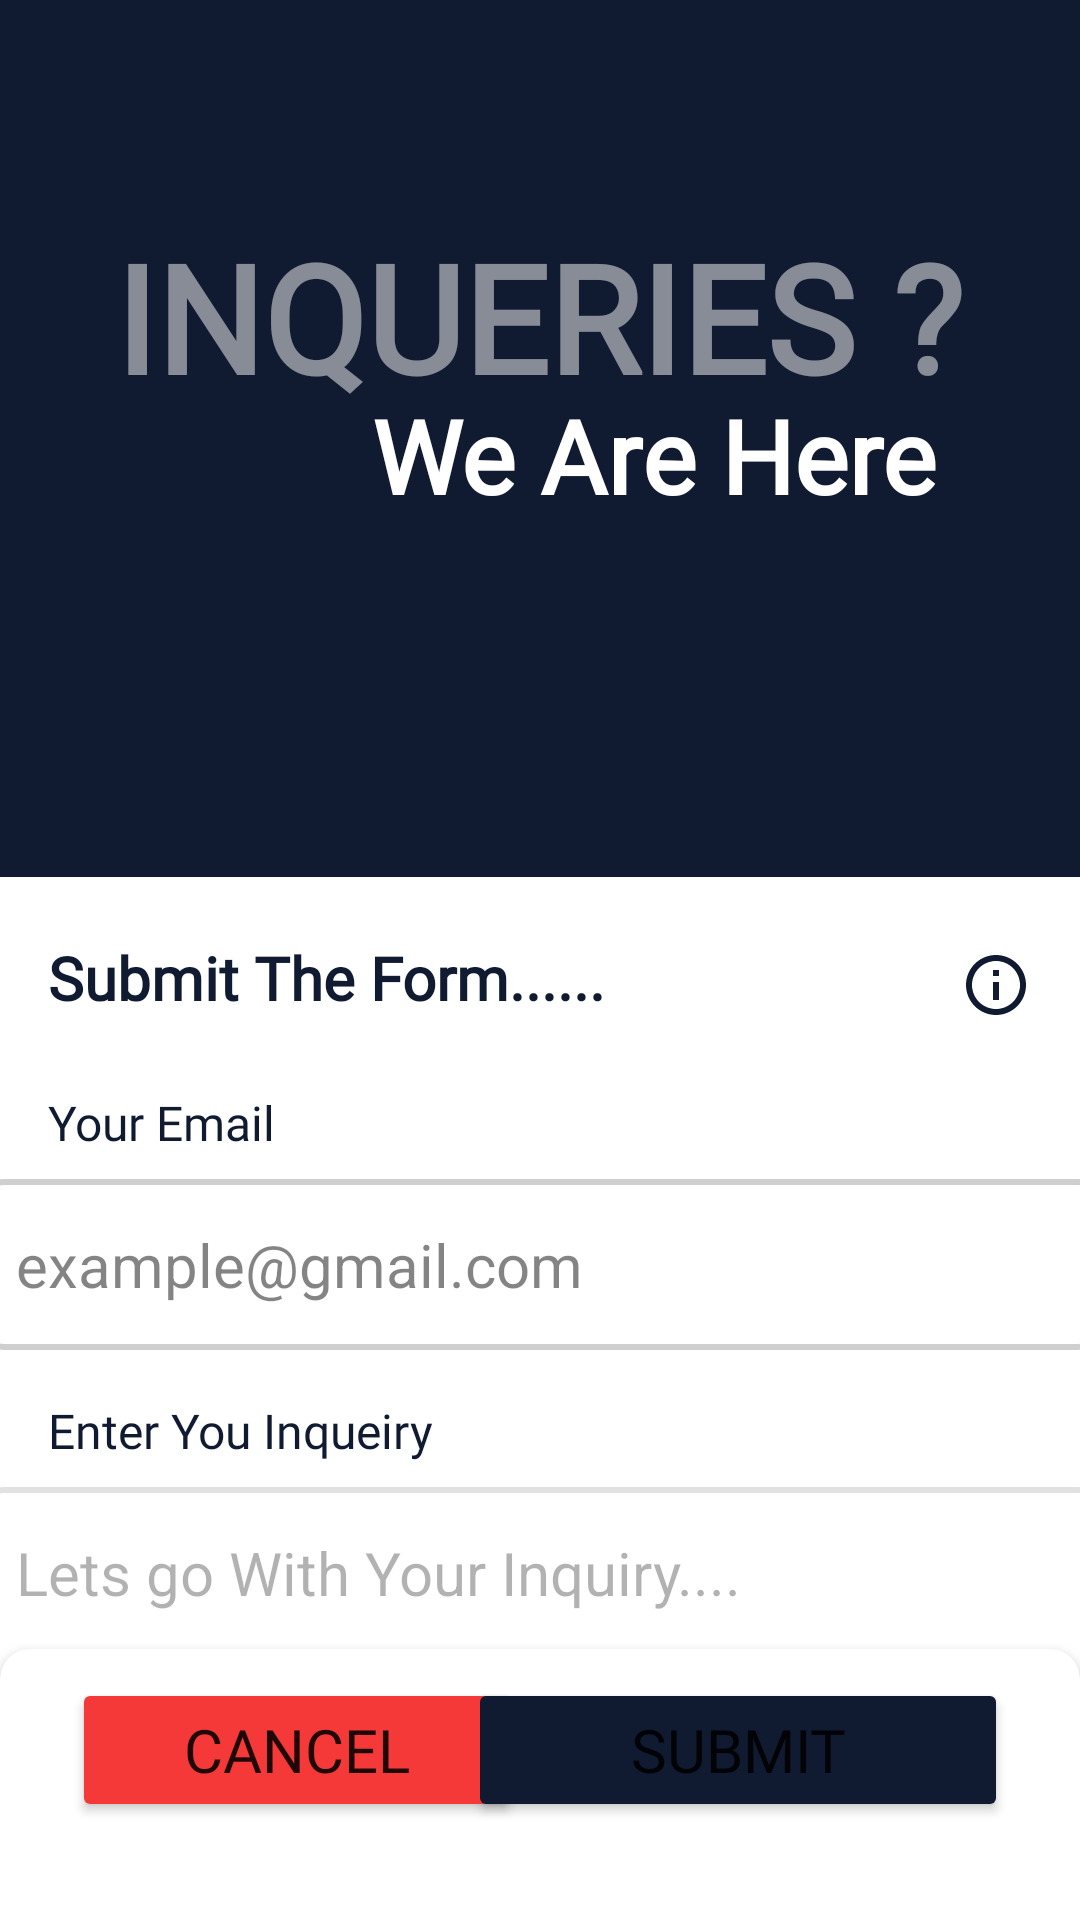

Screen size 1080 x 1920. Icon name, then its box in pixels as (x1, y1, x2, y2):
info: (966, 955, 1026, 1015)
